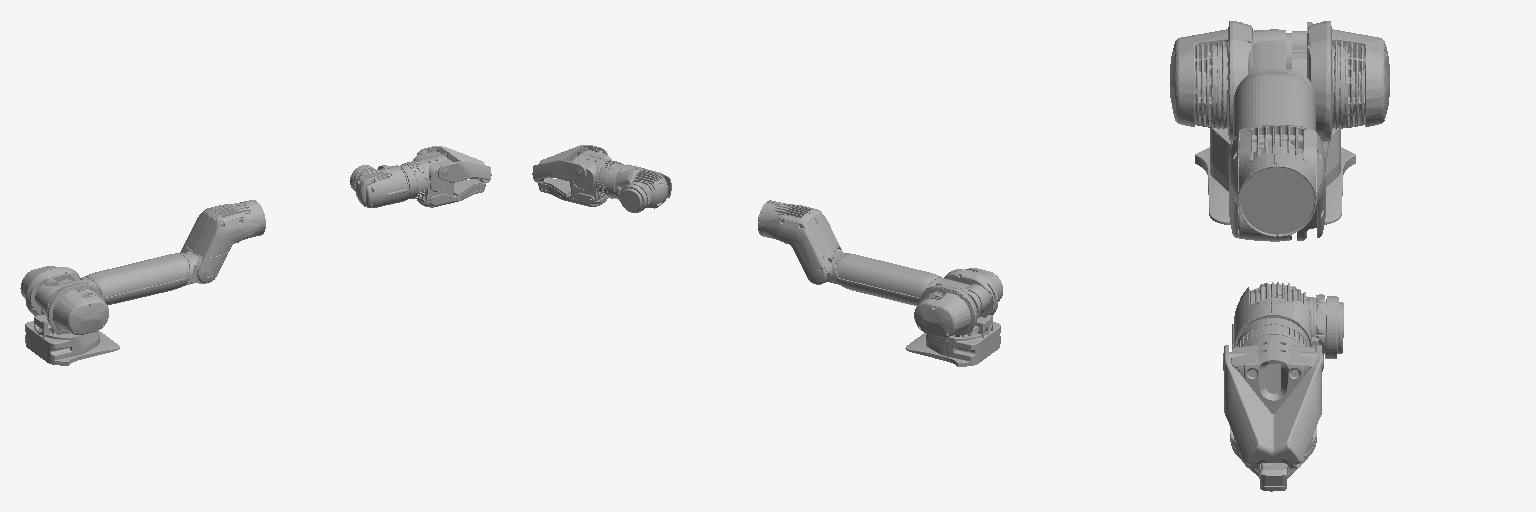
URDF robot description (spot_arm):
<?xml version="1.0" ?>
<robot name="spot_arm" xmlns:xacro="http://www.ros.org/wiki/xacro">

<material name="silver">
  <color rgba="0.700 0.700 0.700 1.000"/>
</material>

<link name="base_link"/>
<joint name="base_link_joint" type="fixed">
    <origin xyz="0 0 0.4" rpy="0 0 0" />
    <parent link="base_link" />
    <child link="body" />
</joint>

<link name="body">
    <visual>
        <geometry>
            <mesh filename="package://spot_arm/meshes/body.dae" />
        </geometry>
    </visual>
    <collision>
        <geometry>
            <mesh filename="package://spot_arm/meshes/body_collision.dae" />
        </geometry>
    </collision>
</link>

<joint name="base_arm_joint" type="fixed">
  <origin xyz="0.29 0 0.08" rpy="0 0 0" />
  <parent link="body" />
  <child link="base_arm_link" />
</joint>

<link name="base_arm_link">
  <inertial>
    <origin rpy="0 0 0" xyz="1.2371844231029972e-17 0.0 0.0325"/>
    <mass value="5.770791545379091"/>
    <inertia ixx="0.007226" ixy="-0.0" ixz="0.0" iyy="0.007226" iyz="0.0" izz="0.010387"/>
  </inertial>
  <visual>
    <origin rpy="0 0 0" xyz="0 0 0"/>
    <geometry>
      <mesh filename="package://spot_arm/meshes/arm/spot_0.dae"/>
    </geometry>
    <material name="silver"/>
  </visual>
  <collision>
    <origin rpy="0 0 0" xyz="0 0 0"/>
    <geometry>
      <mesh filename="package://spot_arm/meshes/arm/spot_0.dae"/>
    </geometry>
  </collision>
</link>

<joint name="arm_joint1" type="revolute">
  <origin rpy="0 0 0" xyz="0.0 0.0 0.065"/>
  <parent link="base_arm_link"/>
  <child link="link1"/>
  <axis xyz="0.0 0.0 1.0"/>
  <limit effort="100" lower="-3.141593" upper="2.617994" velocity="100"/>
</joint>

<link name="link1">
  <inertial>
    <origin rpy="0 0 0" xyz="0.05071972800114364 -1.0308563411658574e-17 0.04676911608650795"/>
    <mass value="6.925827706354272"/>
    <inertia ixx="0.01241" ixy="-0.0" ixz="-0.001047" iyy="0.010387" iyz="0.0" izz="0.012306"/>
  </inertial>
  <visual>
    <origin rpy="0 0 0" xyz="-0.0 -0.0 -0.065"/>
    <geometry>
      <mesh filename="package://spot_arm/meshes/arm/spot_1.dae" />
    </geometry>
    <material name="silver"/>
  </visual>
  <collision>
    <origin rpy="0 0 0" xyz="-0.0 -0.0 -0.065"/>
    <geometry>
      <mesh filename="package://spot_arm/meshes/arm/spot_1.dae" />
    </geometry>
  </collision>
</link>


<joint name="arm_joint2" type="revolute">
  <origin rpy="0 0 0" xyz="0.0 0.0 0.05"/>
  <parent link="link1"/>
  <child link="link2"/>
  <axis xyz="0.0 1.0 0.0"/>
  <limit effort="100" lower="-3.665191" upper="0.0" velocity="100"/>
</joint>


<link name="link2">
  <inertial>
    <origin rpy="0 0 0" xyz="-0.0163095589512068 0.17540914221218962 0.0"/>
    <mass value="12.658281999999998"/>
    <inertia ixx="0.12979" ixy="0.002625" ixz="0.0" iyy="0.01004" iyz="0.0" izz="0.129493"/>
  </inertial>
  <visual>
    <origin rpy="0 3.14159265 0" xyz="-0.03 0.0 0.0"/>
    <geometry>
      <mesh filename="package://spot_arm/meshes/arm/spot_2.dae"/>
    </geometry>
    <material name="silver"/>
  </visual>
  <collision>
    <origin rpy="0 0 0" xyz="-0.015 -0.0 -0.115"/>
    <geometry>
      <mesh filename="package://spot_arm/meshes/arm/spot_2.dae" />
    </geometry>
  </collision>
</link>



<joint name="arm_joint3" type="revolute">
  <origin rpy="0 0 0" xyz="0.3125 0.00 0.0"/>
  <parent link="link2"/>
  <child link="link3"/>
  <axis xyz="0.0 1.0 0.0"/>
  <limit effort="100" lower="0.0" upper="2.96706" velocity="100"/>
</joint>


<link name="link3">
  <inertial>
    <origin rpy="0 0 0" xyz="-0.015621881612358529 0.06665620790957599 -0.058074231003688394"/>
    <mass value="7.368455487741179"/>
    <inertia ixx="0.018073" ixy="0.000915" ixz="-0.00101" iyy="0.011789" iyz="0.003728" izz="0.01667"/>
  </inertial>
  <visual>
    <origin rpy="0 0 0" xyz="0 0 0"/>
    <geometry>
      <mesh filename="package://spot_arm/meshes/arm/spot_3.dae"/>
    </geometry>
    <material name="silver"/>
  </visual>
  <collision>
    <origin rpy="0 0 0" xyz="-0.017 -0.3125 -0.115"/>
    <geometry>
      <mesh filename="package://spot_arm/meshes/arm/spot_3.dae" />
    </geometry>
  </collision>
</link>


<joint name="arm_joint4" type="revolute">
  <origin rpy="0 0 0" xyz="0.138 0.0 0.075"/>
  <parent link="link3"/>
  <child link="link4"/>
  <axis xyz="1.0 0.0 0.0"/>
  <limit effort="100" lower="-2.879793" upper="2.879793" velocity="100"/>
</joint>


<link name="link4">
  <inertial>
    <origin rpy="0 0 0" xyz="-0.00911464892336129 0.12606054498393937 5.551115123125783e-17"/>
    <mass value="10.95245995004642"/>
    <inertia ixx="0.066789" ixy="0.011971" ixz="-0.0" iyy="0.014993" iyz="0.0" izz="0.071949"/>
  </inertial>
  <visual>
    <origin rpy="1.57079632679 0 0" xyz="0 0 0"/>
    <geometry>
      <mesh filename="package://spot_arm/meshes/arm/spot_4.dae" />
    </geometry>
    <material name="silver"/>
  </visual>
  <collision>
    <origin rpy="0 0 0" xyz="0.001 -0.4505 -0.0475"/>
    <geometry>
      <mesh filename="package://spot_arm/meshes/arm/spot_4.dae" />
    </geometry>
  </collision>
</link>


<joint name="arm_joint5" type="revolute">
  <origin rpy="0 0 0" xyz="0.283 0 0.0"/>
  <parent link="link4"/>
  <child link="wrist"/>
  <axis xyz="0.0 1.0 0.0"/>
  <limit effort="100" lower="-1.570796" upper="1.570796" velocity="100"/>
</joint>


<link name="wrist">
  <inertial>
    <origin rpy="0 0 0" xyz="0.03954999709763633 0.03472006124891969 4.209155544249166e-08"/>
    <mass value="3.2278801394086396"/>
    <inertia ixx="0.00339" ixy="-2.1e-05" ixz="0.0" iyy="0.002242" iyz="-0.0" izz="0.003439"/>
  </inertial>
  <visual>
    <origin rpy="1.57079632679 0 0" xyz="0.0 0 0"/>
    <geometry>
      <mesh filename="package://spot_arm/meshes/arm/spot_5.dae" />
    </geometry>
    <material name="silver"/>
  </visual>
  <collision>
    <origin rpy="0 0 0" xyz="0.0485 -0.69859 -0.0475"/>
    <geometry>
      <mesh filename="package://spot_arm/meshes/arm/spot_5.dae" />
    </geometry>
  </collision>
</link>

<joint name="arm_joint6" type="revolute">
  <origin rpy="0 0 0" xyz="0.056 0.0 0.0"/>
  <parent link="wrist"/>
  <child link="gripper"/>
  <axis xyz="1.0 0.0 0.0"/>
  <limit effort="100" lower="-2.96706" upper="2.96706" velocity="100"/>
</joint>


<link name="gripper">
  <inertial>
    <origin rpy="0 0 0" xyz="-8.366123908053191e-08 0.07051371901138614 0.017123167388316526"/>
    <mass value="5.9780007036604434"/>
    <inertia ixx="0.01723" ixy="0.0" ixz="0.0" iyy="0.00734" iyz="-0.003871" izz="0.0153"/>
  </inertial>
  <visual>
    <origin rpy="0 0 0" xyz="0 0 0"/>
    <geometry>
      <mesh filename="package://spot_arm/meshes/arm/spot_6.dae" />
    </geometry>
    <material name="silver"/>
  </visual>
  <collision>
    <origin rpy="0 0 0" xyz="0.0085 -0.77959 -0.0475"/>
    <geometry>
      <mesh filename="package://spot_arm/meshes/arm/spot_6.dae" />
    </geometry>
  </collision>
</link>

<joint name="arm_gripper" type="revolute">
  <origin rpy="0 0 0" xyz="0.078 0 0.025"/>
  <parent link="gripper"/>
  <child link="finger"/>
  <axis xyz="1.0 -0.0 0.0"/>
  <limit effort="100" lower="-1.396263" upper="0.349066" velocity="100"/>
</joint>

<link name="finger">
  <inertial>
    <origin rpy="0 0 0" xyz="0.8635899028063472 0.09862056591557622 0.00850232975194119"/>
    <mass value="1.71236178687828"/>
    <inertia ixx="0.002129" ixy="0.0" ixz="-0.0" iyy="0.001681" iyz="0.000162" izz="0.003403"/>
  </inertial>
  <visual>
    <origin rpy="0 0 0" xyz="0 0 0"/>
    <geometry>
      <mesh filename="package://spot_arm/meshes/arm/spot_7.dae" />
    </geometry>
    <material name="silver"/>
  </visual>
  <collision>
    <origin rpy="0 0 0" xyz="0.87709 -0.823505 -0.0185"/>
    <geometry>
      <mesh filename="package://spot_arm/meshes/arm/spot_7.dae" />
    </geometry>
  </collision>
</link>

  <joint name="tool_tip_joint" type="fixed">
    <origin xyz="0.2 0.0 0.0" rpy="0 1.570796 0" />
    <parent link="gripper" />
    <child link="tool_tip" />
  </joint>

  <link name="tool_tip"/>

    <link name="front_rail"/>
    <joint name="front_rail_joint" type="fixed">
        <origin xyz="0.223 0 0.0805" rpy="0 0 0" />
        <parent link="body" />
        <child link="front_rail" />
    </joint>

    <link name="real_front_rail"/>
    <joint name="real_front_rail_joint" type="fixed">
        <origin xyz="0.2075 0 0.0805" rpy="0 0 0" />
        <parent link="body" />
        <child link="real_front_rail" />
    </joint>

    <link name="rear_rail"/>
    <joint name="rear_rail_joint" type="fixed">
        <origin xyz="-0.223 0 0.0805" rpy="0 0 0" />
        <parent link="body" />
        <child link="rear_rail" />
    </joint>

    <link name="real_rear_rail"/>
    <joint name="real_rear_rail_joint" type="fixed">
        <origin xyz="-0.415 0 0" rpy="0 0 0" />
        <parent link="real_front_rail" />
        <child link="real_rear_rail" />
    </joint>

    <link name="front_left_hip">
        <visual>
            <geometry>
                <mesh filename="package://spot_arm/meshes/front_left_hip.dae" />
            </geometry>
        </visual>
        <collision>
            <geometry>
                <mesh filename="package://spot_arm/meshes/front_left_hip_collision.dae" />
            </geometry>
        </collision>
    </link>
    <joint name="front_left_hip_x" type="revolute">
        <origin xyz="0.29785 0.05500 0.00000" rpy="0.0 0 0" />
        <axis xyz="1 0 0" />
        <parent link="body" />
        <child link="front_left_hip" />
        <limit effort="1000" velocity="1000.00" lower="-0.78539816339744827899" upper="0.78539816339744827899" />
    </joint>
    <link name="front_left_upper_leg">
        <visual>
            <geometry>
                <mesh filename="package://spot_arm/meshes/front_left_upper_leg.dae" />
            </geometry>
        </visual>
        <collision>
            <geometry>
                <mesh filename="package://spot_arm/meshes/front_left_upper_leg_collision.dae" />
            </geometry>
        </collision>
    </link>
    <joint name="front_left_hip_y" type="revolute">
        <origin xyz="0.0 0.110945 0.0" rpy="0 0 0" />
        <axis xyz="0 1 0" />
        <parent link="front_left_hip" />
        <child link="front_left_upper_leg" />
        <limit effort="1000" velocity="1000.00" lower="-0.89884456477707963539" upper="2.2951079663725435509" />
    </joint>
    <link name="front_left_lower_leg">
        <visual>
            <geometry>
                <mesh filename="package://spot_arm/meshes/front_left_lower_leg.dae" />
            </geometry>
        </visual>
        <collision>
            <geometry>
                <mesh filename="package://spot_arm/meshes/front_left_lower_leg_collision.dae" />
            </geometry>
        </collision>
    </link>
    <joint name="front_left_knee" type="revolute">
        <origin xyz="0.025 0.000 -0.3205" rpy="0 0 0" />
        <axis xyz="0 1 0" />
        <parent link="front_left_upper_leg" />
        <child link="front_left_lower_leg" />
        <limit effort="1000" velocity="1000.00" lower="-2.7929" upper="-0.254801" />
    </joint>
    <link name="front_right_hip">
        <visual>
            <geometry>
                <mesh filename="package://spot_arm/meshes/front_right_hip.dae" />
            </geometry>
        </visual>
        <collision>
            <geometry>
                <mesh filename="package://spot_arm/meshes/front_right_hip_collision.dae" />
            </geometry>
        </collision>
    </link>
    <joint name="front_right_hip_x" type="revolute">
        <origin xyz="0.29785 -0.05500 0.00000" rpy="0 0 0" />
        <axis xyz="1 0 0" />
        <parent link="body" />
        <child link="front_right_hip" />
        <limit effort="1000" velocity="1000.00" lower="-0.78539816339744827899" upper="0.78539816339744827899" />
    </joint>
    <link name="front_right_upper_leg">
        <visual>
            <geometry>
                <mesh filename="package://spot_arm/meshes/front_right_upper_leg.dae" />
            </geometry>
        </visual>
        <collision>
            <geometry>
                <mesh filename="package://spot_arm/meshes/front_right_upper_leg_collision.dae" />
            </geometry>
        </collision>
    </link>
    <joint name="front_right_hip_y" type="revolute">
        <origin xyz="0.0 -0.110945 0.0" rpy="0 0 0" />
        <axis xyz="0 1 0" />
        <parent link="front_right_hip" />
        <child link="front_right_upper_leg" />
        <limit effort="1000" velocity="1000.00" lower="-0.89884456477707963539" upper="2.2951079663725435509" />
    </joint>
    <link name="front_right_lower_leg">
        <visual>
            <geometry>
                <mesh filename="package://spot_arm/meshes/front_right_lower_leg.dae" />
            </geometry>
        </visual>
        <collision>
            <geometry>
                <mesh filename="package://spot_arm/meshes/front_right_lower_leg_collision.dae" />
            </geometry>
        </collision>
    </link>
    <joint name="front_right_knee" type="revolute">
        <origin xyz="0.025 0.000 -0.3205" rpy="0 0 0" />
        <axis xyz="0 1 0" />
        <parent link="front_right_upper_leg" />
        <child link="front_right_lower_leg" />
        <limit effort="1000" velocity="1000.00" lower="-2.7929" upper="-0.247563" />
    </joint>
    <link name="rear_left_hip">
        <visual>
            <geometry>
                <mesh filename="package://spot_arm/meshes/rear_left_hip.dae" />
            </geometry>
        </visual>
        <collision>
            <geometry>
                <mesh filename="package://spot_arm/meshes/rear_left_hip_collision.dae" />
            </geometry>
        </collision>
    </link>
    <joint name="rear_left_hip_x" type="revolute">
        <origin xyz="-0.29785 0.05500 0.00000" rpy="0 0 0" />
        <axis xyz="1 0 0" />
        <parent link="body" />
        <child link="rear_left_hip" />
        <limit effort="1000" velocity="1000.00" lower="-0.78539816339744827899" upper="0.78539816339744827899" />
    </joint>
    <link name="rear_left_upper_leg">
        <visual>
            <geometry>
                <mesh filename="package://spot_arm/meshes/rear_left_upper_leg.dae" />
            </geometry>
        </visual>
        <collision>
            <geometry>
                <mesh filename="package://spot_arm/meshes/rear_left_upper_leg_collision.dae" />
            </geometry>
        </collision>
    </link>
    <joint name="rear_left_hip_y" type="revolute">
        <origin xyz="0.0 0.110945 0.0" rpy="0 0 0" />
        <axis xyz="0 1 0" />
        <parent link="rear_left_hip" />
        <child link="rear_left_upper_leg" />
        <limit effort="1000" velocity="1000.00" lower="-0.89884456477707963539" upper="2.2951079663725435509" />
    </joint>
    <link name="rear_left_lower_leg">
        <visual>
            <geometry>
                <mesh filename="package://spot_arm/meshes/rear_left_lower_leg.dae" />
            </geometry>
        </visual>
        <collision>
            <geometry>
                <mesh filename="package://spot_arm/meshes/rear_left_lower_leg_collision.dae" />
            </geometry>
        </collision>
    </link>
    <joint name="rear_left_knee" type="revolute">
        <origin xyz="0.025 0.000 -0.3205" rpy="0 0 0" />
        <axis xyz="0 1 0" />
        <parent link="rear_left_upper_leg" />
        <child link="rear_left_lower_leg" />
        <limit effort="1000" velocity="1000.00" lower="-2.7929" upper="-0.267153" />
    </joint>
    <link name="rear_right_hip">
        <visual>
            <geometry>
                <mesh filename="package://spot_arm/meshes/rear_right_hip.dae" />
            </geometry>
        </visual>
        <collision>
            <geometry>
                <mesh filename="package://spot_arm/meshes/rear_right_hip_collision.dae" />
            </geometry>
        </collision>
    </link>
    <joint name="rear_right_hip_x" type="revolute">
        <origin xyz="-0.29785 -0.05500 0.00000" rpy="0 0 0" />
        <axis xyz="1 0 0" />
        <parent link="body" />
        <child link="rear_right_hip" />
        <limit effort="1000" velocity="1000.00" lower="-0.78539816339744827899" upper="0.78539816339744827899" />
    </joint>
    <link name="rear_right_upper_leg">
        <visual>
            <geometry>
                <mesh filename="package://spot_arm/meshes/rear_right_upper_leg.dae" />
            </geometry>
        </visual>
        <collision>
            <geometry>
                <mesh filename="package://spot_arm/meshes/rear_right_upper_leg_collision.dae" />
            </geometry>
        </collision>
    </link>
    <joint name="rear_right_hip_y" type="revolute">
        <origin xyz="0.0 -0.110945 0.0" rpy="0 0 0" />
        <axis xyz="0 1 0" />
        <parent link="rear_right_hip" />
        <child link="rear_right_upper_leg" />
        <limit effort="1000" velocity="1000.00" lower="-0.89884456477707963539" upper="2.2951079663725435509" />
    </joint>
    <link name="rear_right_lower_leg">
        <visual>
            <geometry>
                <mesh filename="package://spot_arm/meshes/rear_right_lower_leg.dae" />
            </geometry>
        </visual>
        <collision>
            <geometry>
                <mesh filename="package://spot_arm/meshes/rear_right_lower_leg_collision.dae" />
            </geometry>
        </collision>
    </link>
    <joint name="rear_right_knee" type="revolute">
        <origin xyz="0.025 0.000 -0.3205" rpy="0 0 0" />
        <axis xyz="0 1 0" />
        <parent link="rear_right_upper_leg" />
        <child link="rear_right_lower_leg" />
        <limit effort="1000" velocity="1000.00" lower="-2.7929" upper="-0.257725" />
    </joint>

</robot>

--- Facts derived from the render (not from the file) ---
Views: 3 orthographic renders of the robot side by side, from view 1: azimuth 30°, elevation 25°; view 2: azimuth 150°, elevation 25°; view 3: azimuth 270°, elevation 25°.
Model spot_arm with 27 links and 26 joints (19 revolute, 7 fixed), rooted at base_link, posed joints at zero except 4 at the middle of their limits (front_left_knee = -1.52, front_right_knee = -1.52, rear_left_knee = -1.53, rear_right_knee = -1.53).
Links seen in each view (by area): view 1: link2, link1, link3, gripper, base_arm_link, wrist, finger; view 2: link2, link1, link3, gripper, base_arm_link, wrist, finger; view 3: link1, link3, finger, link2, gripper, wrist, base_arm_link.
Boxes of the visible links, <box> form: link2: <box>30,252,206,313</box>; link1: <box>20,266,108,337</box>; link3: <box>180,200,265,282</box>; gripper: <box>400,151,485,207</box>; base_arm_link: <box>25,321,119,365</box>; wrist: <box>350,165,409,207</box>; finger: <box>417,146,491,182</box>; link2: <box>828,249,996,318</box>; link1: <box>914,268,1002,337</box>; link3: <box>758,200,841,284</box>; gripper: <box>537,150,624,206</box>; base_arm_link: <box>905,322,1000,366</box>; wrist: <box>615,164,671,212</box>; finger: <box>532,145,607,181</box>; link1: <box>1170,21,1389,156</box>; link3: <box>1229,125,1325,240</box>; finger: <box>1223,345,1323,468</box>; link2: <box>1233,22,1315,241</box>; gripper: <box>1230,318,1316,491</box>; wrist: <box>1232,282,1343,358</box>; base_arm_link: <box>1195,128,1355,224</box>.
Size in the robot's own frame: 1.06 by 0.2111 by 0.2314 metres.
7 mesh visuals loaded from 21 distinct referenced files (7 Collada DAE); not drawn: 14 (reference not matched to a file when rendering).